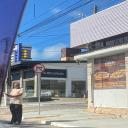NoVirarDireita: (32, 64, 46, 74)
